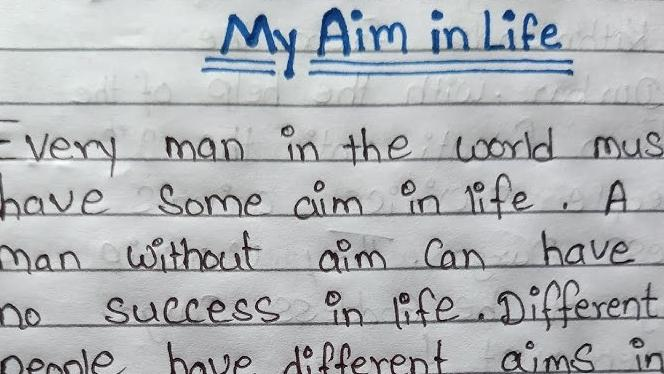text: (0, 116, 664, 181), (0, 273, 660, 333), (0, 168, 631, 222), (0, 226, 638, 278), (218, 3, 564, 84), (0, 332, 664, 374)
